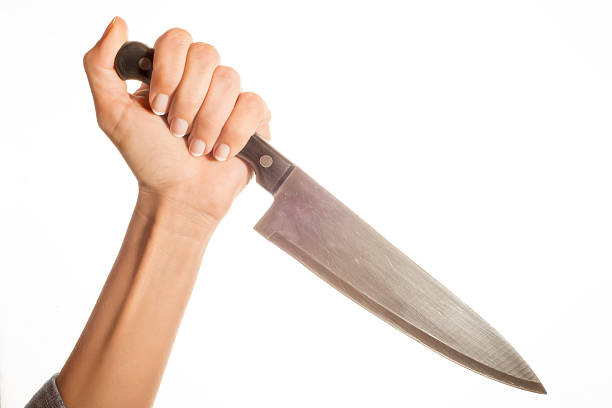knife: (112, 39, 548, 397)
